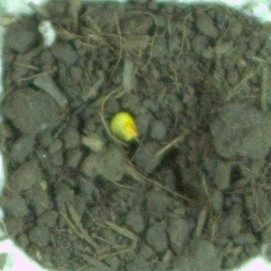pepper seed: (39, 41, 180, 183)
